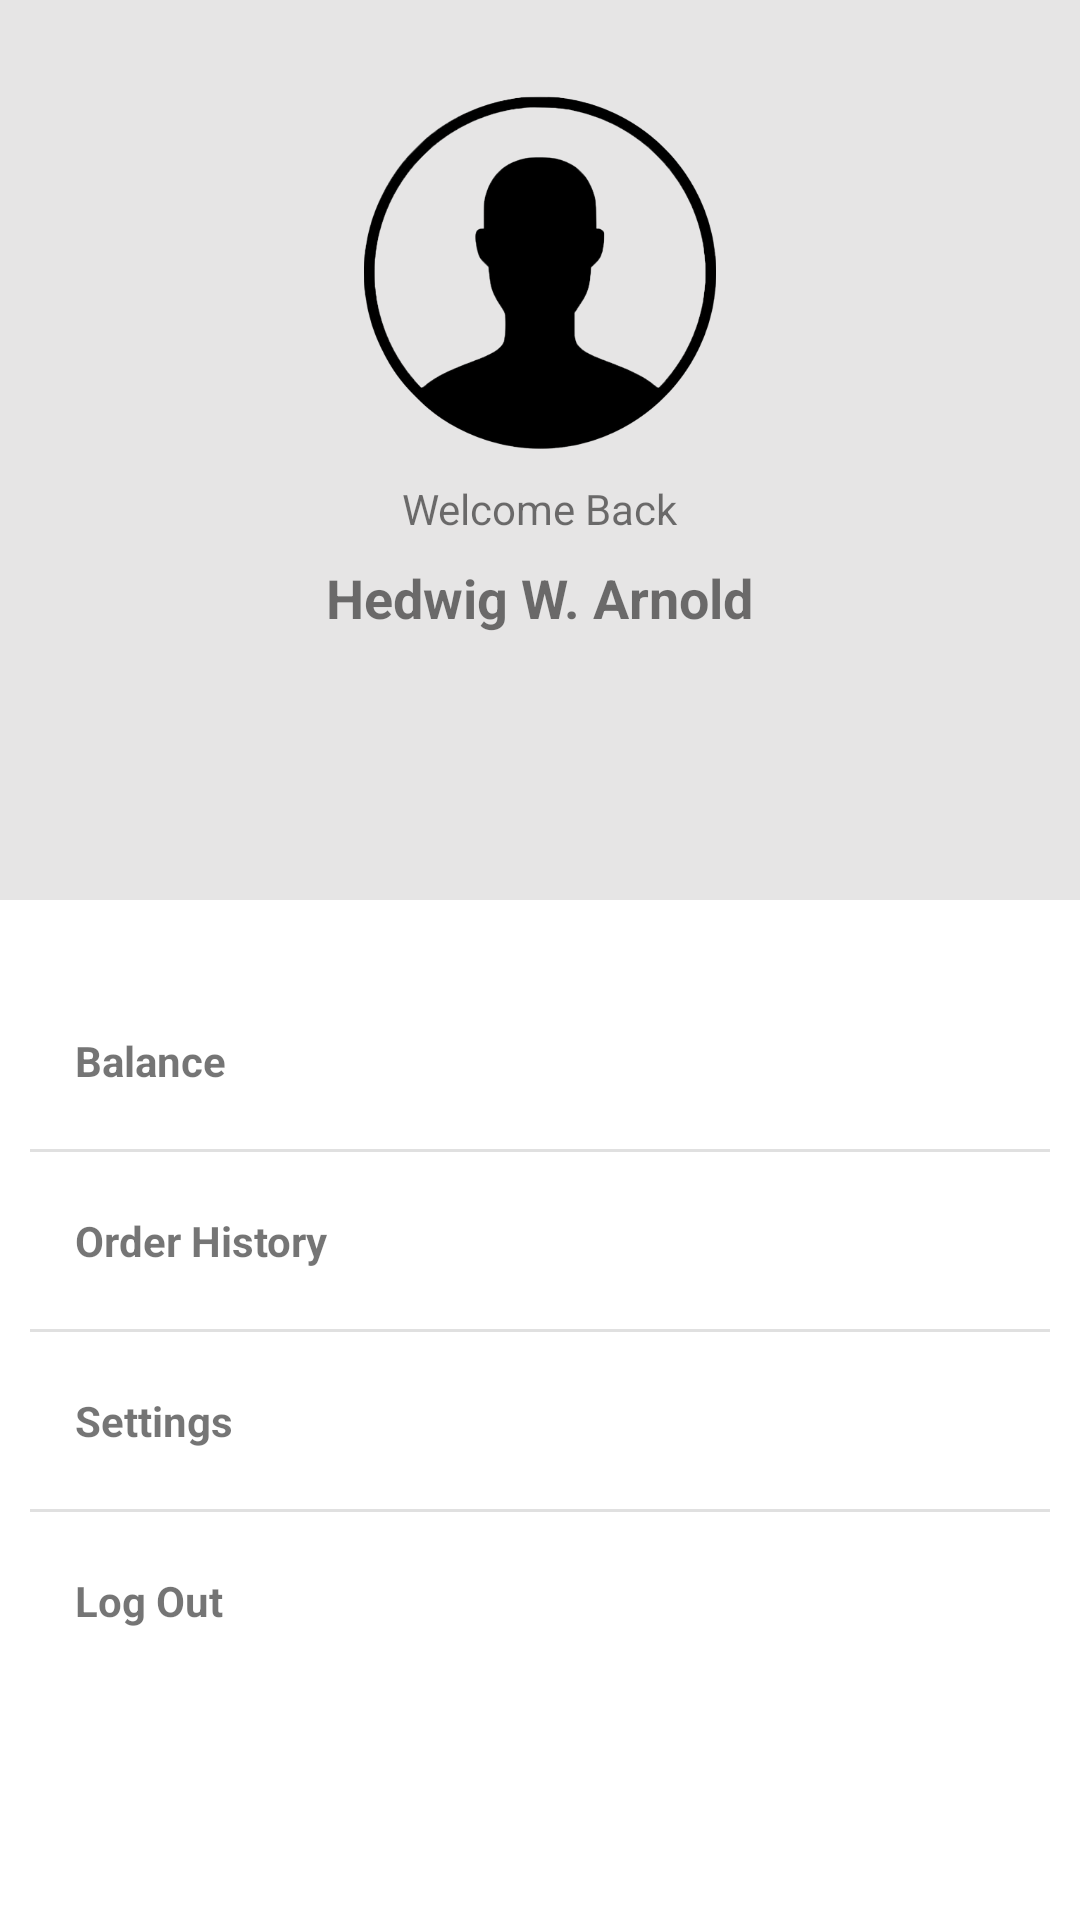

Screen size 1080×1920. Icon name, then its center in pixels as [x,y]:
profile pic: [540,272]
